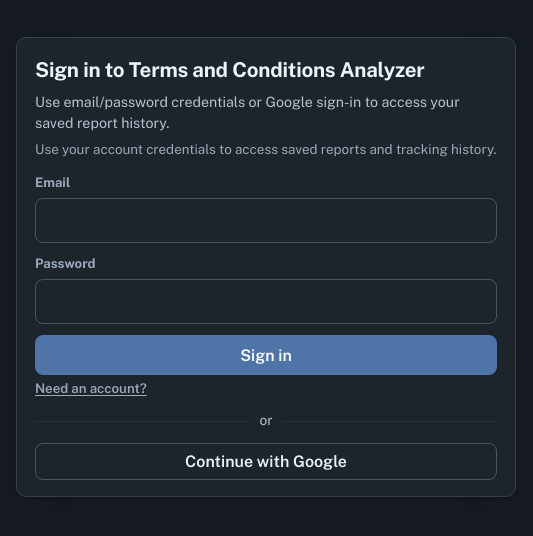
Scenario: AuthEntryPoint › surfaces denied access errors on the login screen
Check: the button "Sign in" is shown, box [35,335,497,375]
Type "denied-user@example.com" into the field labelled "Email" at {"x": 266, "y": 220}, box [35,198,497,243]
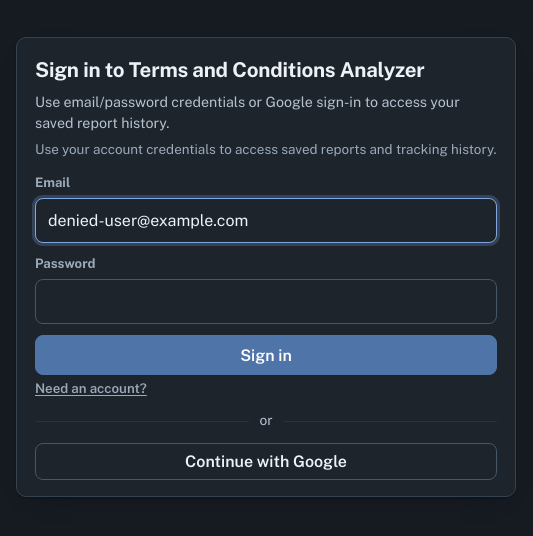
Type "wrong-password" into the password field labelled "Password" at {"x": 266, "y": 302}, box [35,279,497,324]
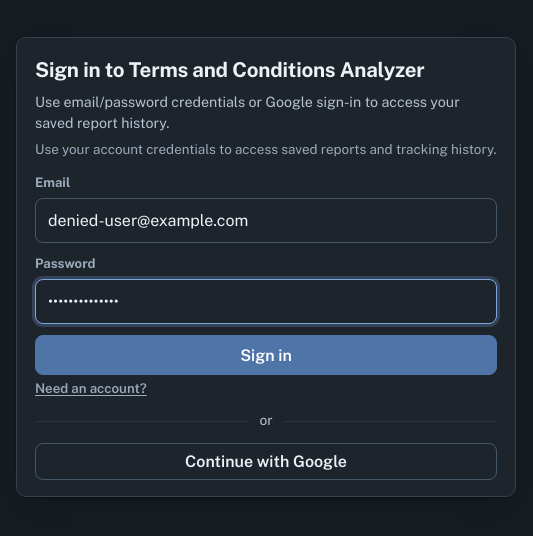
Click the button "Sign in" at {"x": 266, "y": 355}, box [35,335,497,375]
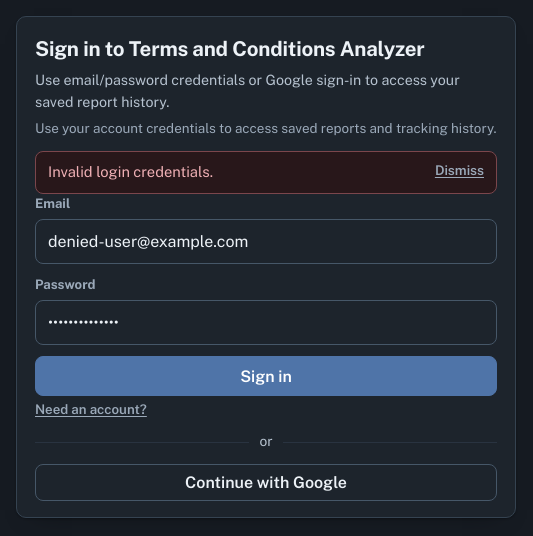
Check: the message "Invalid login credentials. Dismiss" is shown, box [35,151,497,194]
Check: the text "Invalid login credentials." is shown, box [48,162,213,183]
